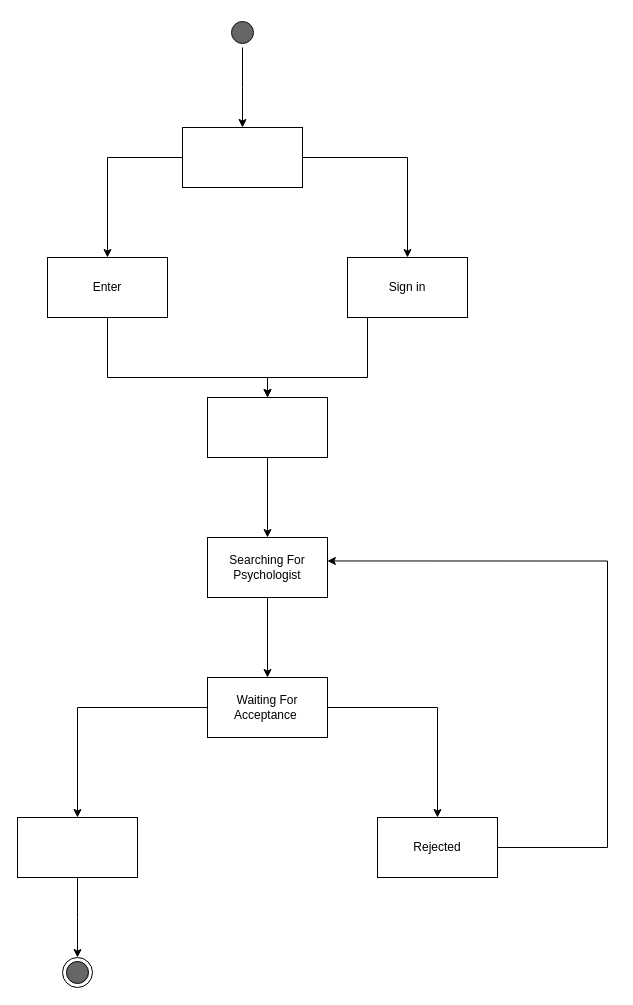
Image size: 633x1005. Some labels were removed from this diagram. The centre of each missing label's shape, as x and y in pixels:
"Accepted" goes at (77,847).
"Patient Viewing Site" goes at (242,157).
"Registered User" goes at (267,427).
